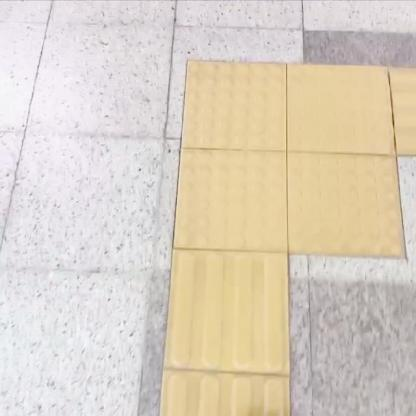podotacti: (157, 23, 415, 297), (157, 256, 290, 415)
